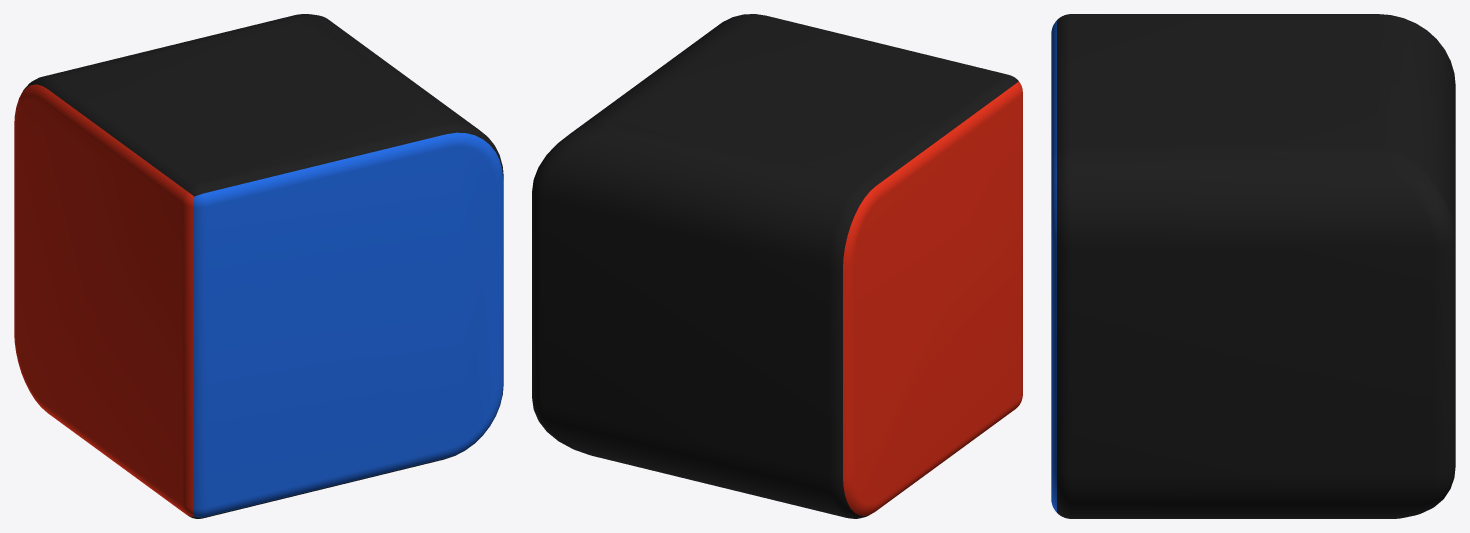
The model's file is rb_edge.glb.
3 views of the same model, side by side, from view 1: azimuth 30°, elevation 25°; view 2: azimuth 150°, elevation 25°; view 3: azimuth 270°, elevation 25° (orthographic). The views are drawn at different scales.
Parts seen in each view (by area): view 1: Cube.015; view 2: Cube.015; view 3: Cube.015.
Boxes of the visible parts, bbox=[...] form: Cube.015: bbox=[14, 14, 503, 518]; Cube.015: bbox=[532, 14, 1022, 518]; Cube.015: bbox=[1051, 14, 1455, 518].
Size of the model in its own units: 2 by 2 by 2.
